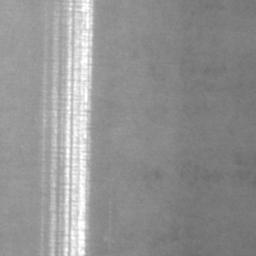Bright scratch: (61, 0, 95, 256)
